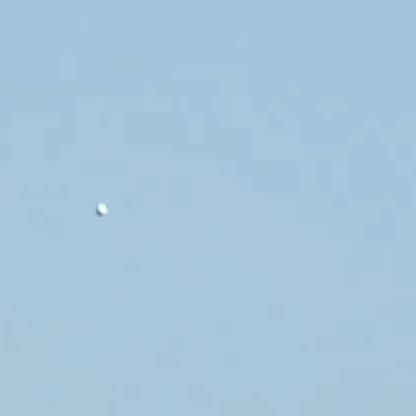golfball: (93, 198, 106, 214)
